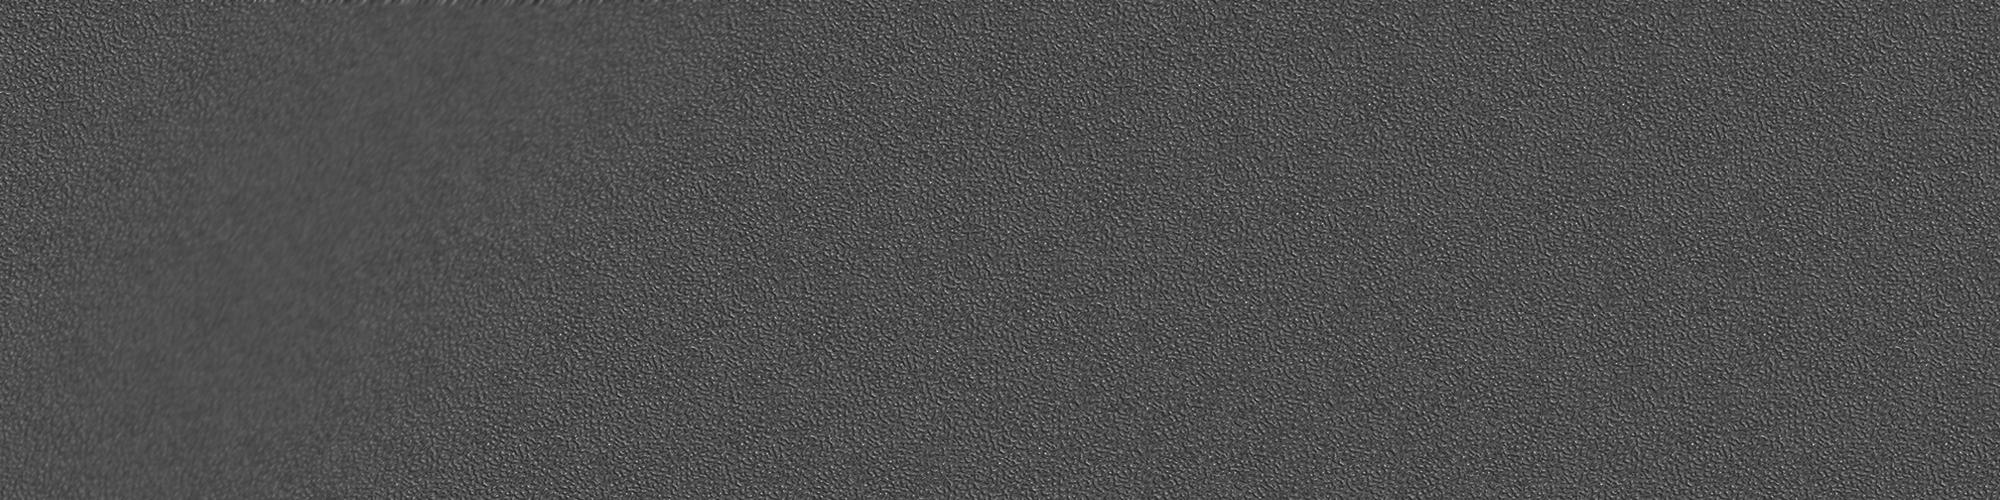Flow_Lines: (139, 10, 638, 483)
